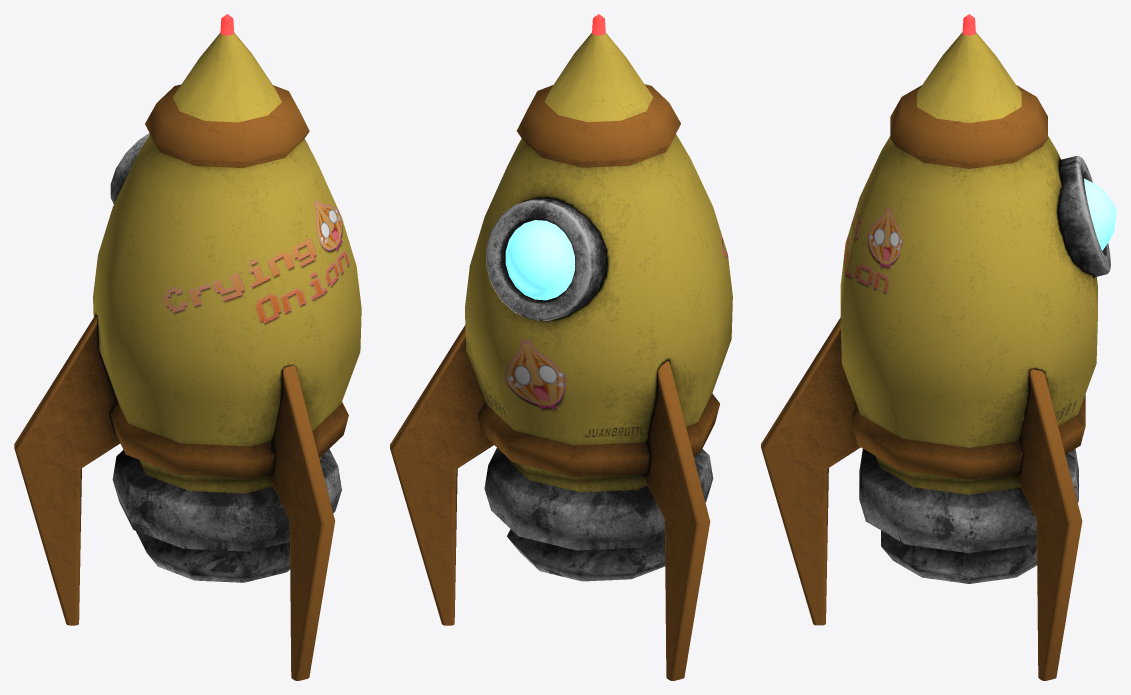
The model's file is rocket.fbx.
3 renders of one model, left to right at view 1: azimuth 30°, elevation 25°; view 2: azimuth 150°, elevation 25°; view 3: azimuth 270°, elevation 25°, orthographic.
Visible parts, largest first — view 1: base_low, polySurface3, polySurface1, cockpit_low; view 2: base_low, polySurface2, cockpit_low, polySurface3; view 3: base_low, polySurface1, polySurface2, cockpit_low.
Boxes of the visible parts, x1,y1,x2,y2 form: base_low: (93,14,361,582); polySurface3: (14,315,120,625); polySurface1: (267,365,335,680); cockpit_low: (110,133,149,204); base_low: (465,14,732,581); polySurface2: (390,325,493,625); cockpit_low: (486,198,607,320); polySurface3: (642,360,710,680); base_low: (840,14,1097,583); polySurface1: (761,317,860,625); polySurface2: (1014,369,1082,680); cockpit_low: (1058,156,1116,277).
Bounding box in the file's own units: 129 × 235 × 124.
